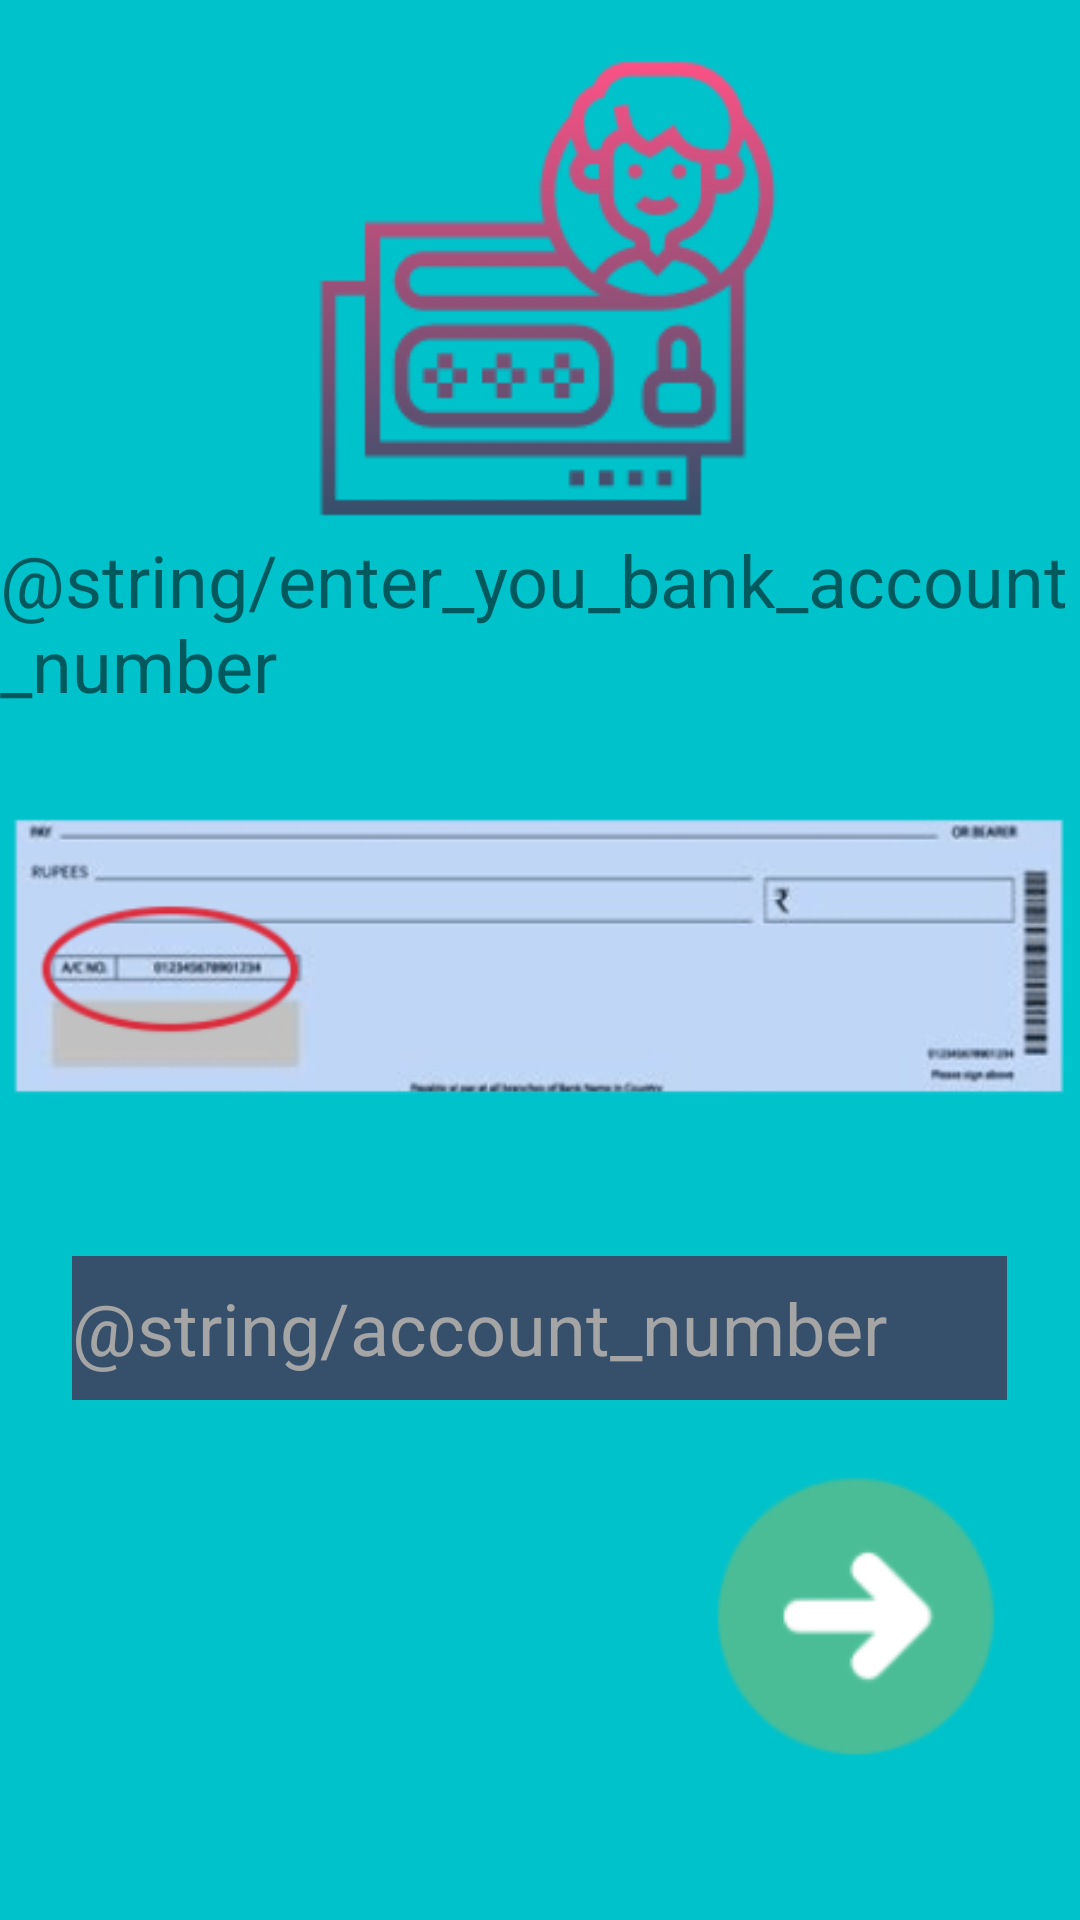

Icon bounding boxes for this 1080*1920 phone screenshot, format rect(x1, y1, x2, y2):
nextt: rect(718, 1478, 994, 1754)
